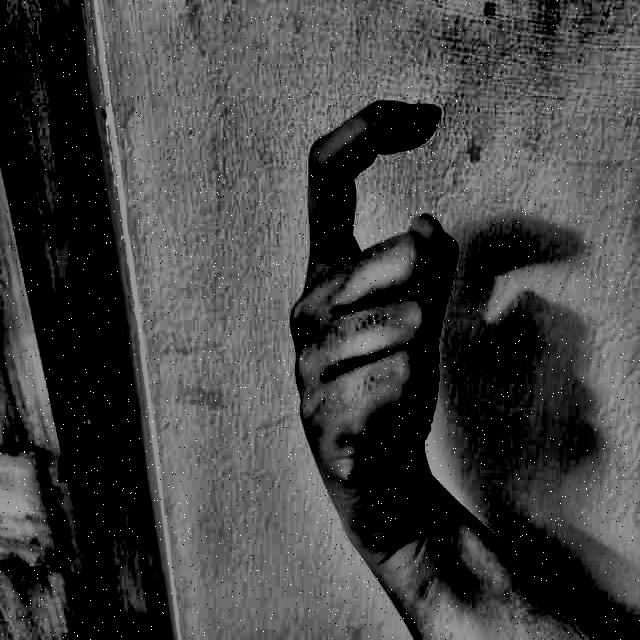E: (253, 81, 493, 555)
